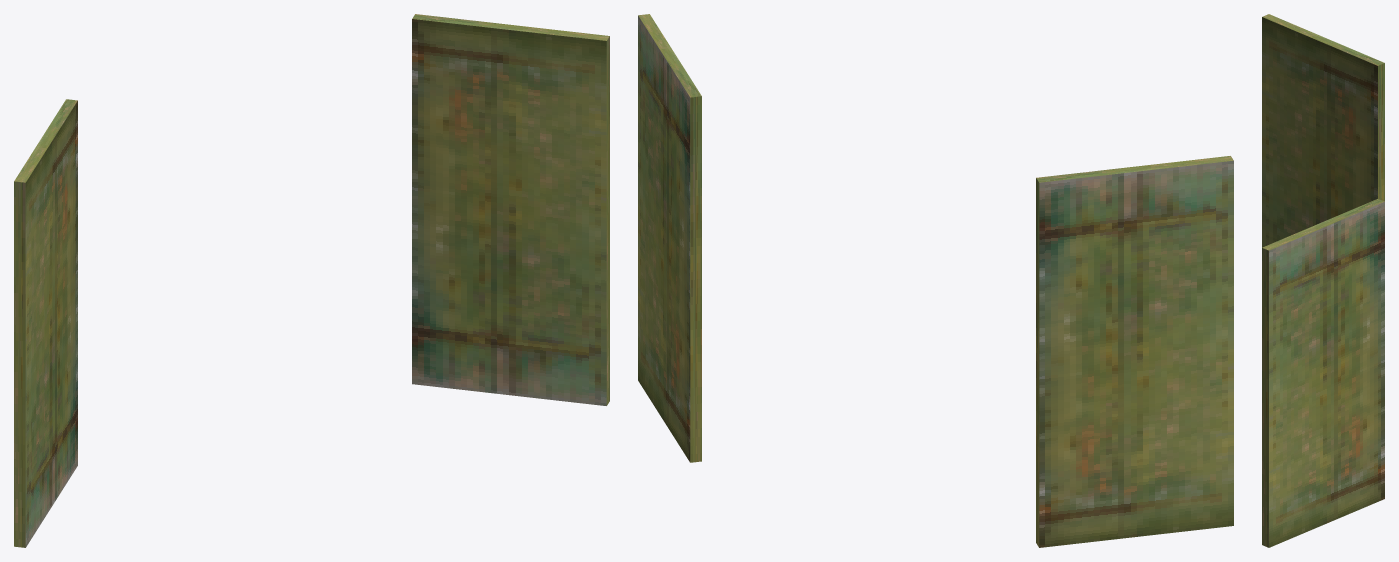
The model's file is shutters_double_open_01.glb.
3 renders of one model, left to right at view 1: azimuth 30°, elevation 25°; view 2: azimuth 150°, elevation 25°; view 3: azimuth 270°, elevation 25°, orthographic. The views are drawn at different scales.
Parts seen in each view (by area): view 1: shutters_double_open_012; view 2: shutters_double_open_012; view 3: shutters_double_open_012.
Boxes of the visible parts, box(x1,y1,x2,y2) form: shutters_double_open_012: box(14, 14, 609, 547); shutters_double_open_012: box(638, 14, 1233, 547); shutters_double_open_012: box(1262, 14, 1384, 547).
Size of the model in its own units: 3.41 by 2 by 0.7495.
Materials: 1 (1 with a texture image).
